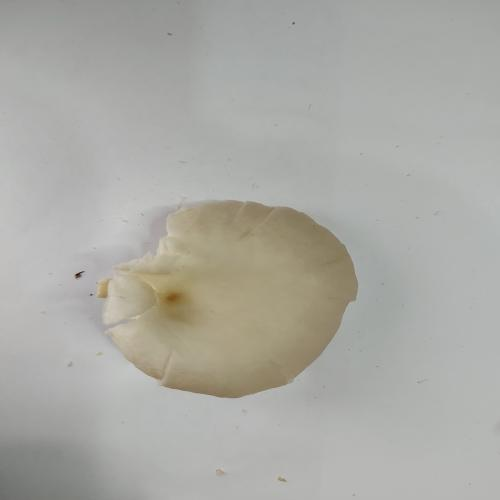Oyster Mushroom: (96, 198, 359, 399)
